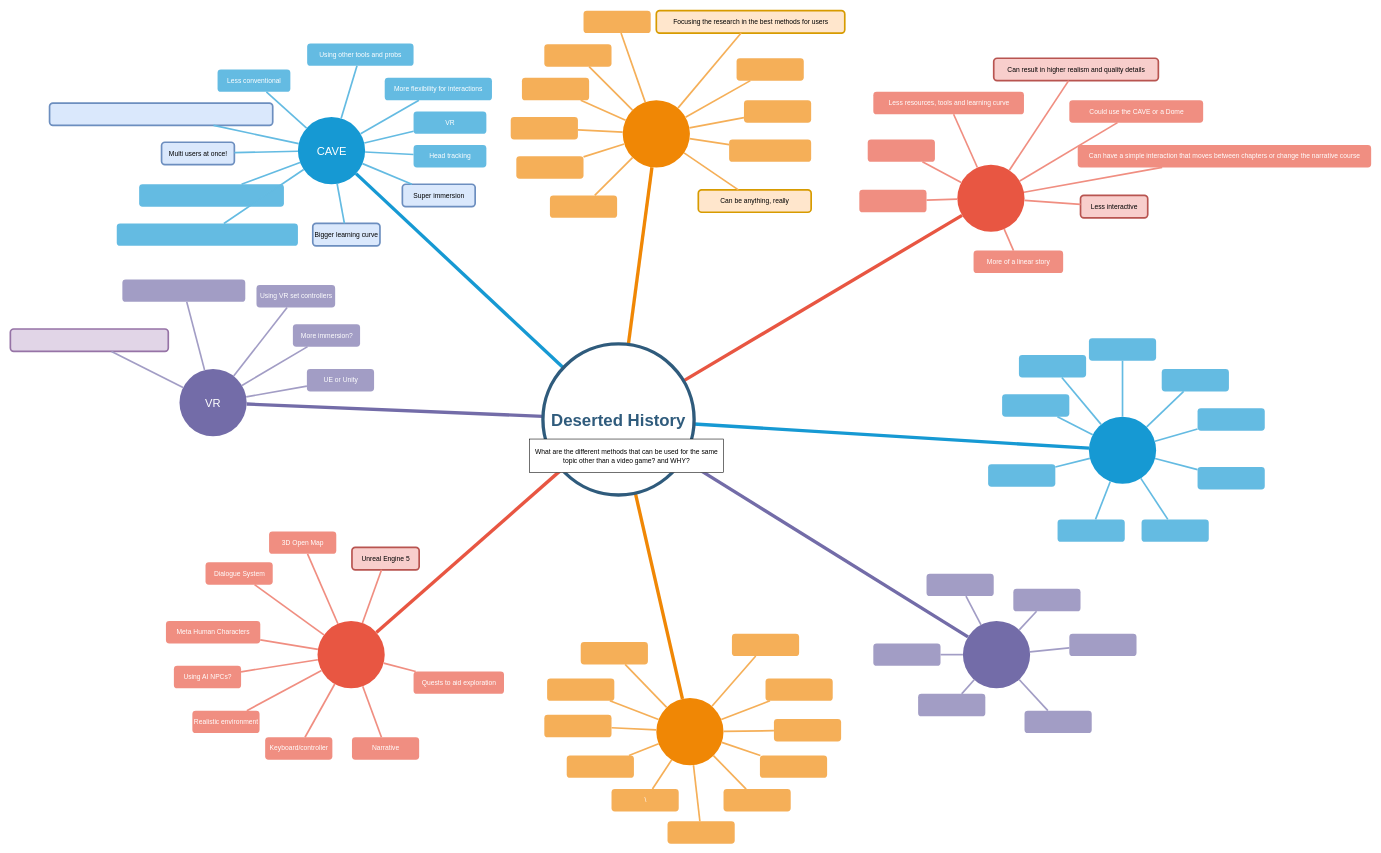
Image size: 1381x853. Some labels were removed from this diagram. Each missing label, with the centre of its shape:
AI Interface: the point at 1122,450
Collaboration in real-time for users: the point at 211,195
Conventinal Video Game: the point at 350,654
Could change the initial plan of how the history is interacted with: the point at 160,114
Immersive Video: the point at 990,198
Installation: the point at 656,133
might limit other features in a normal game: the point at 207,234
not very different from a conventional: the point at 183,290
perfect for conversations with NPCs: the point at 89,340
